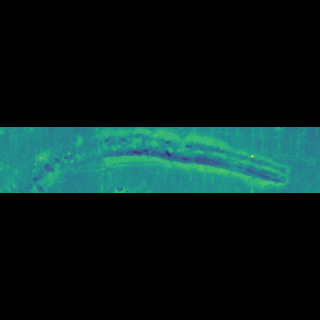Loch: (0, 153, 291, 166)
